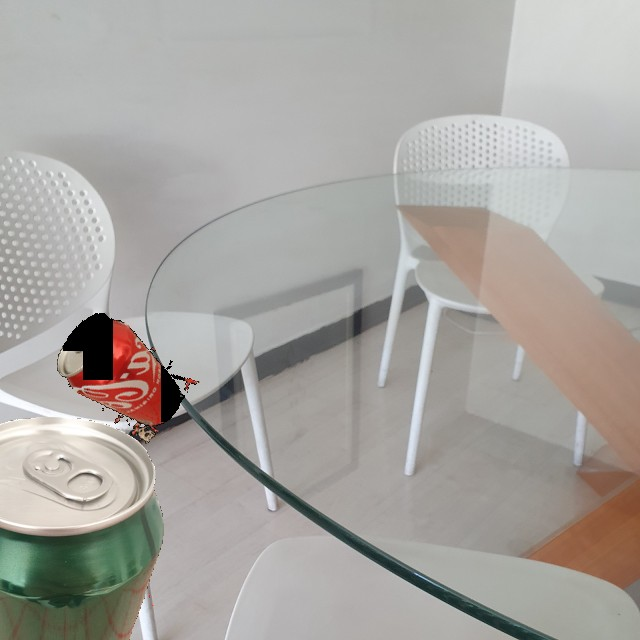coca cola: (46, 302, 200, 448)
schweppes: (0, 417, 164, 640)
